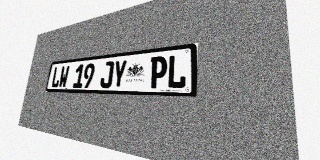1: (73, 64, 85, 88)
9: (82, 63, 95, 88)
J: (99, 61, 114, 88)
L: (166, 54, 187, 89), (51, 66, 62, 88)
P: (149, 56, 168, 88)
W: (58, 65, 70, 88)
Y: (111, 60, 127, 88)
